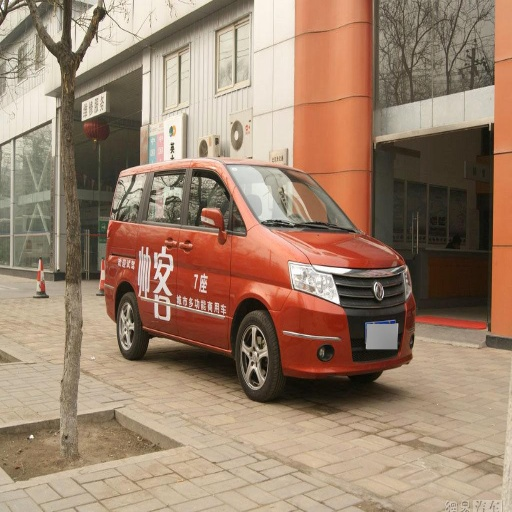front_bumper: (276, 267, 414, 376)
front_right_door: (175, 165, 240, 344)
front_right_light: (288, 260, 338, 303)
trunk: (102, 250, 135, 303)
